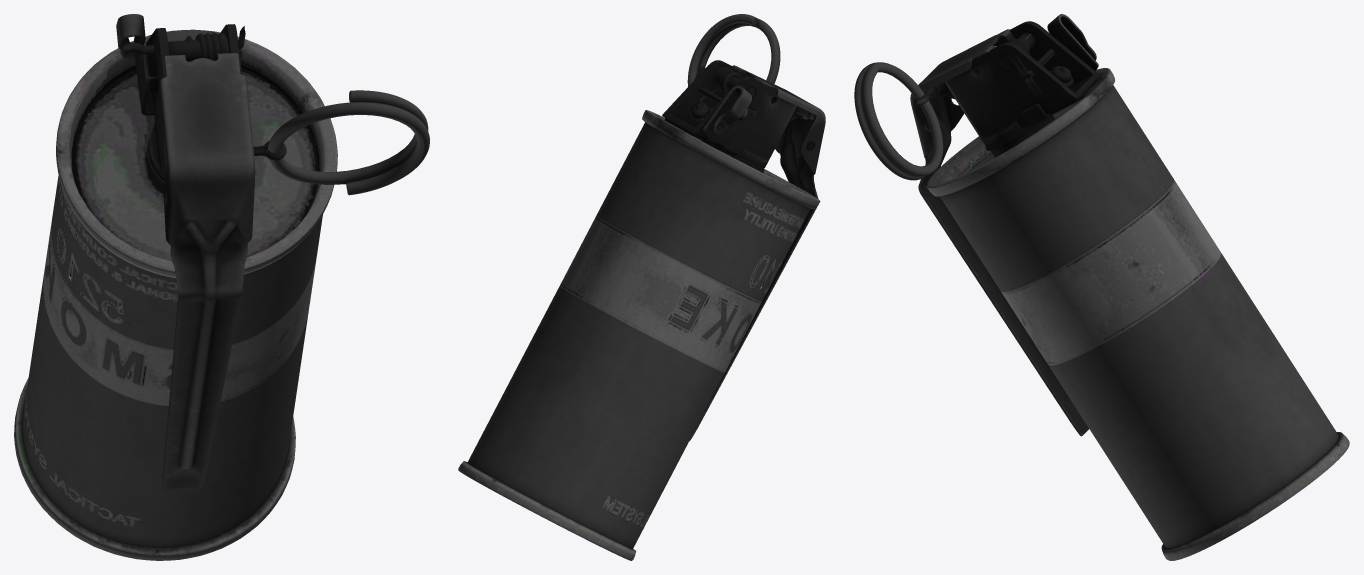
The model's file is w_smokegrenade.glb.
The picture shows the model from 3 angles, left to right: view 1: azimuth 30°, elevation 25°; view 2: azimuth 150°, elevation 25°; view 3: azimuth 270°, elevation 25°; orthographic projection. The views are drawn at different scales.
Visible parts, largest first — view 1: w_smokegrenade; view 2: w_smokegrenade; view 3: w_smokegrenade.
Part boxes in pixels (box(x1,y1,x2,y2)): w_smokegrenade: box(14, 14, 429, 560); w_smokegrenade: box(458, 14, 825, 560); w_smokegrenade: box(854, 14, 1349, 560).
Bounding box in the file's own units: 0.1199 × 0.2058 × 0.19.
1 material, 1 textured.
